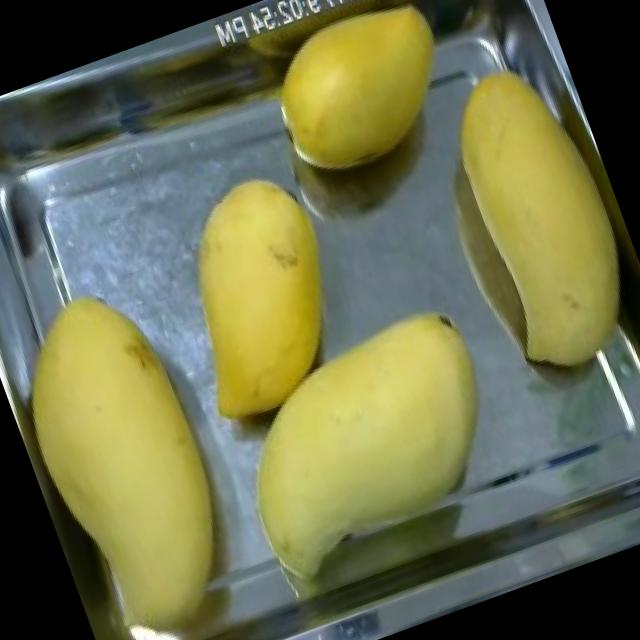fruit: (0, 259, 286, 640), (196, 286, 534, 586), (388, 31, 640, 407), (138, 148, 384, 444), (244, 0, 484, 199)
